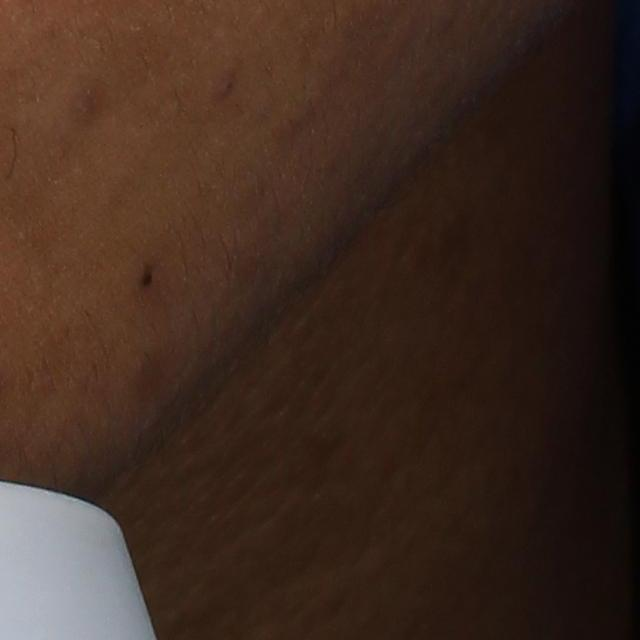nevus: (135, 267, 157, 289)
